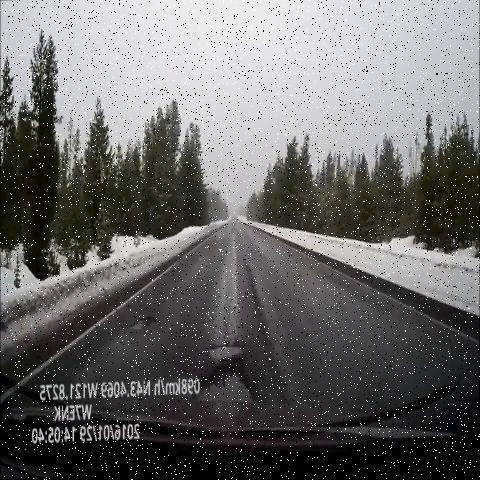pothole: (184, 336, 256, 422), (126, 308, 158, 341)
